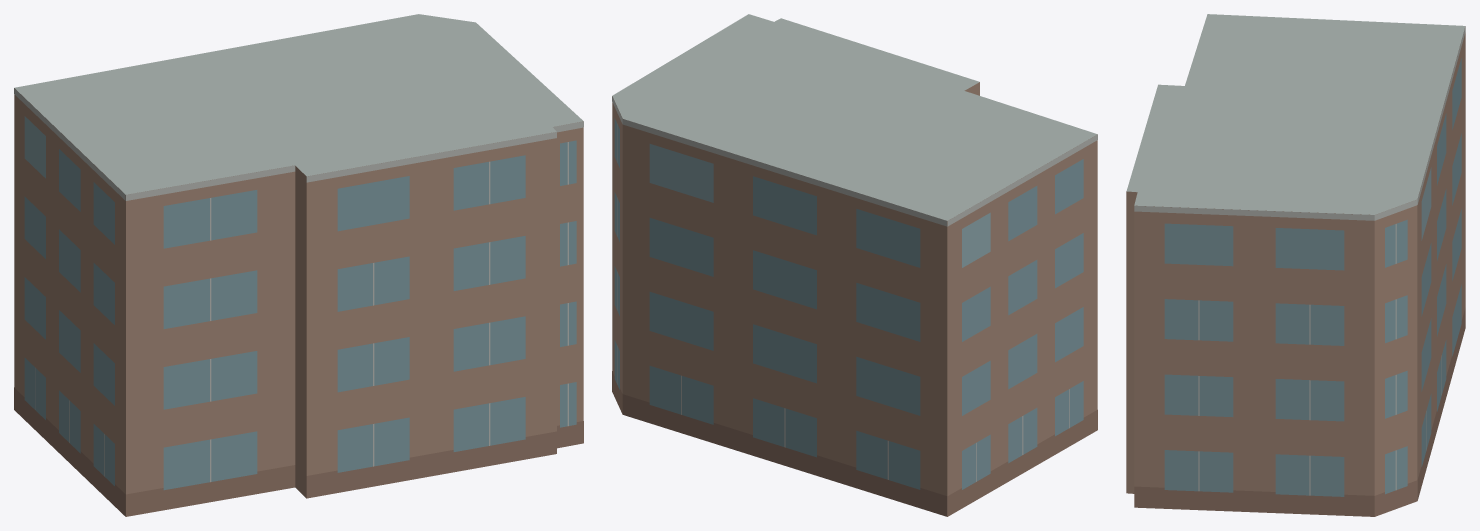
The model's file is survey-upis-32946070.glb.
3 renders of one model, left to right at view 1: azimuth 30°, elevation 25°; view 2: azimuth 150°, elevation 25°; view 3: azimuth 270°, elevation 25°, orthographic. The views are drawn at different scales.
Visible parts, largest first — view 1: survey-upis-32946070.tmp; view 2: survey-upis-32946070.tmp; view 3: survey-upis-32946070.tmp.
Boxes of the visible parts, left/top/right/bottom form: survey-upis-32946070.tmp: left=14, top=14, right=583, bottom=516; survey-upis-32946070.tmp: left=612, top=14, right=1097, bottom=516; survey-upis-32946070.tmp: left=1126, top=14, right=1465, bottom=516.
Bounding box in the file's own units: 17.92 × 12.55 × 12.78.
